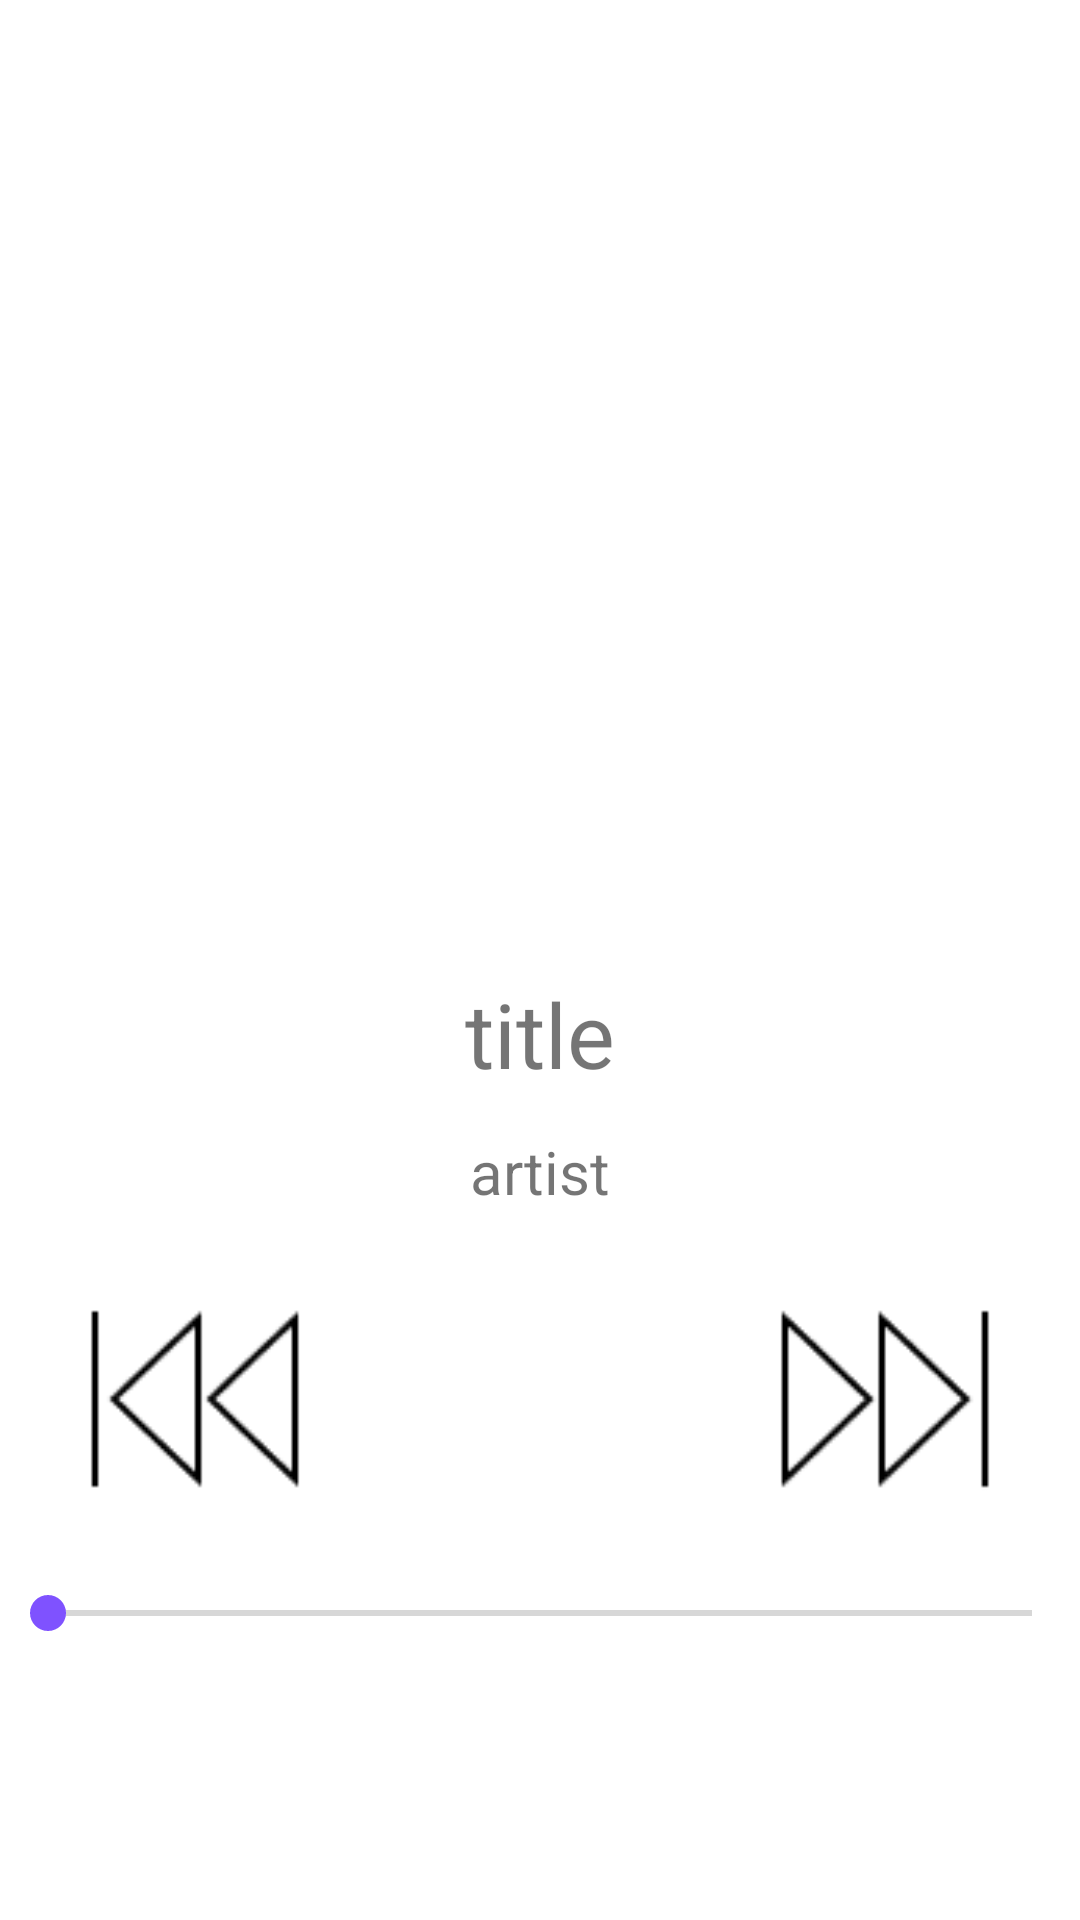

Icon bounding boxes for this 1080px x 1920px phone screenshot, format (x1, y1, x2, y2):
next: (781, 1310, 989, 1488)
previous: (91, 1310, 299, 1488)
